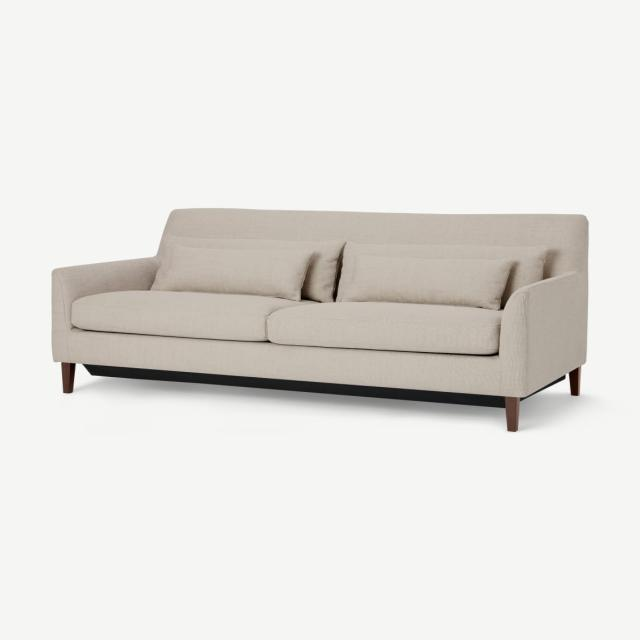Soffa: (45, 199, 588, 436)
